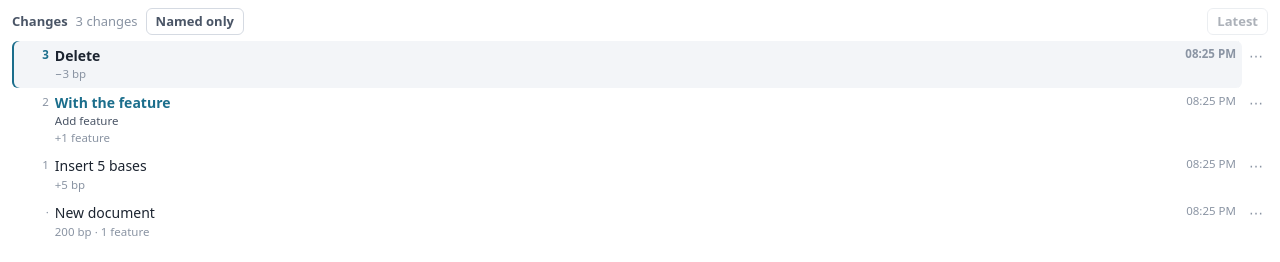
Test: HistoryPanel naming (#4) › lists only the named states when asked
Click the button "Named only": [195, 21] box [146,8,244,35]
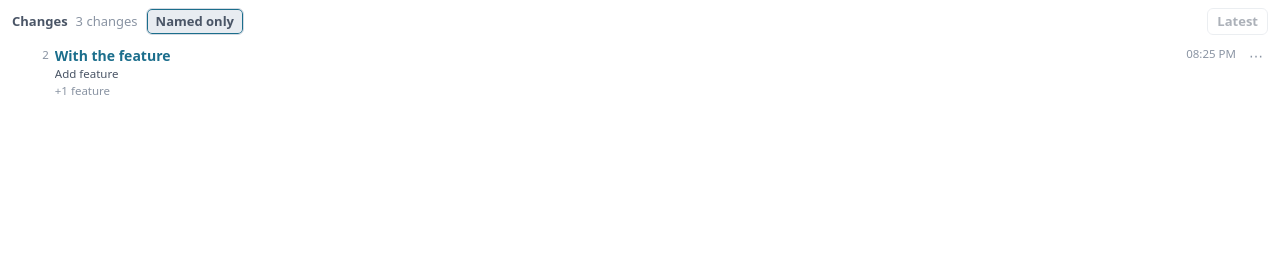
Check: the button with class "history-panel__item" shows "With the feature", box [12,41,1242,104]
Check: the number of buttons with class "history-panel__item" is 1, box [12,41,1242,104]
Click the button "Named only": [195, 21] box [146,8,244,35]
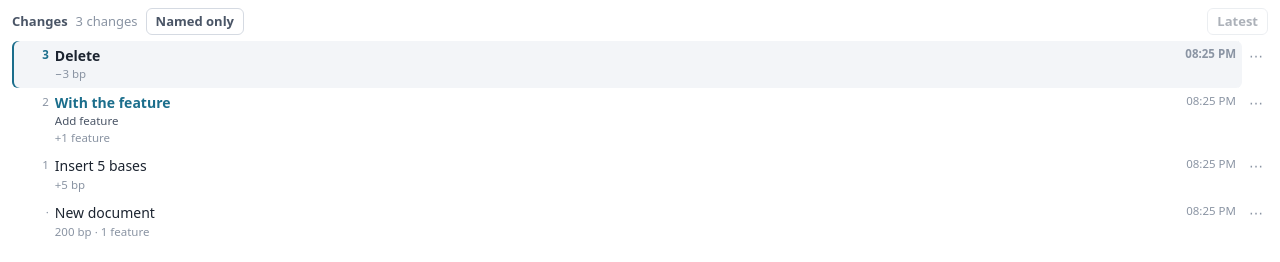
Check: the number of buttons with class "history-panel__item" is 4, box [12,41,1242,88]; [12,88,1242,151]; [12,152,1242,198]; [12,198,1242,245]
